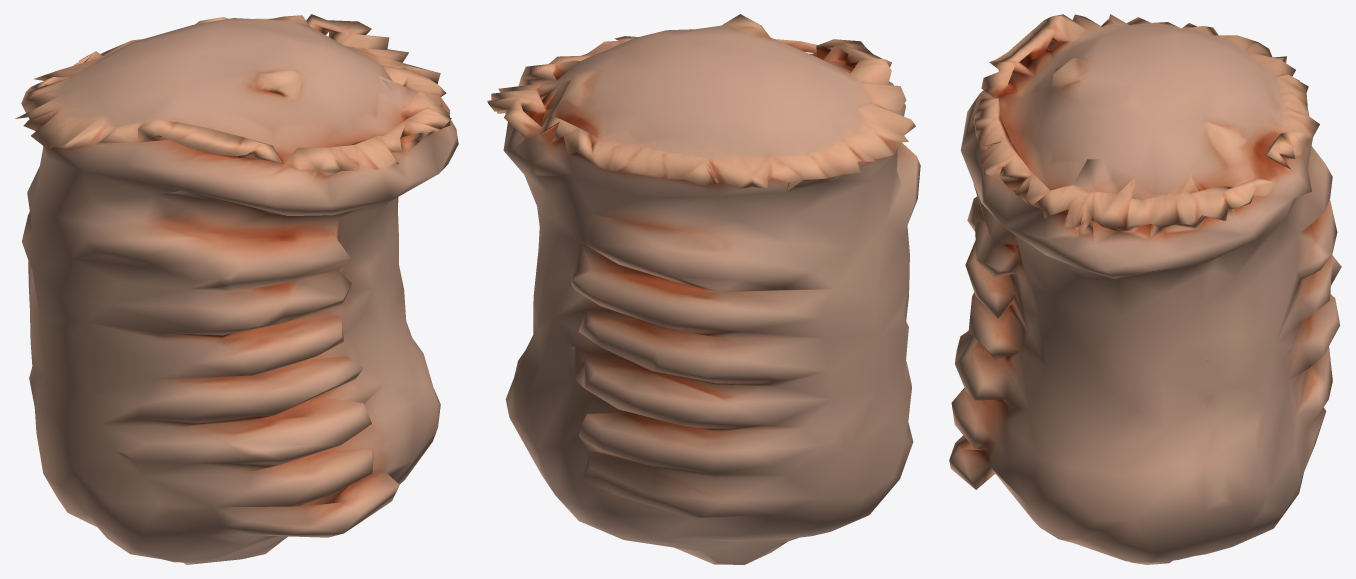
Rendered from enterocyte.glb.
The picture shows the model from 3 angles, left to right: view 1: azimuth 30°, elevation 25°; view 2: azimuth 150°, elevation 25°; view 3: azimuth 270°, elevation 25°; orthographic projection. The views are drawn at different scales.
Visible parts, largest first — view 1: enterocyte; view 2: enterocyte; view 3: enterocyte.
Boxes of the visible parts, x1=… form: enterocyte: x1=15, y1=14, x2=458, y2=564; enterocyte: x1=487, y1=14, x2=920, y2=564; enterocyte: x1=949, y1=14, x2=1341, y2=564.
Bounding box in the file's own units: 1.43 × 1.76 × 1.26.
1 material, 1 textured.
